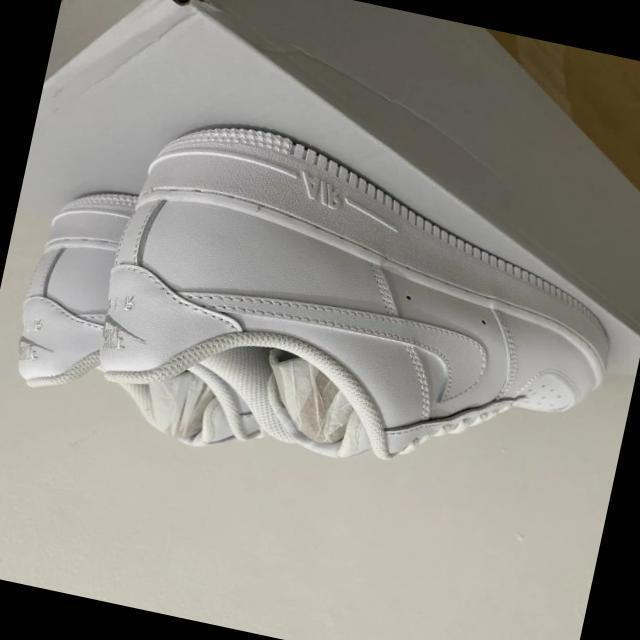nike original air force: (79, 104, 640, 513), (1, 172, 363, 472)
